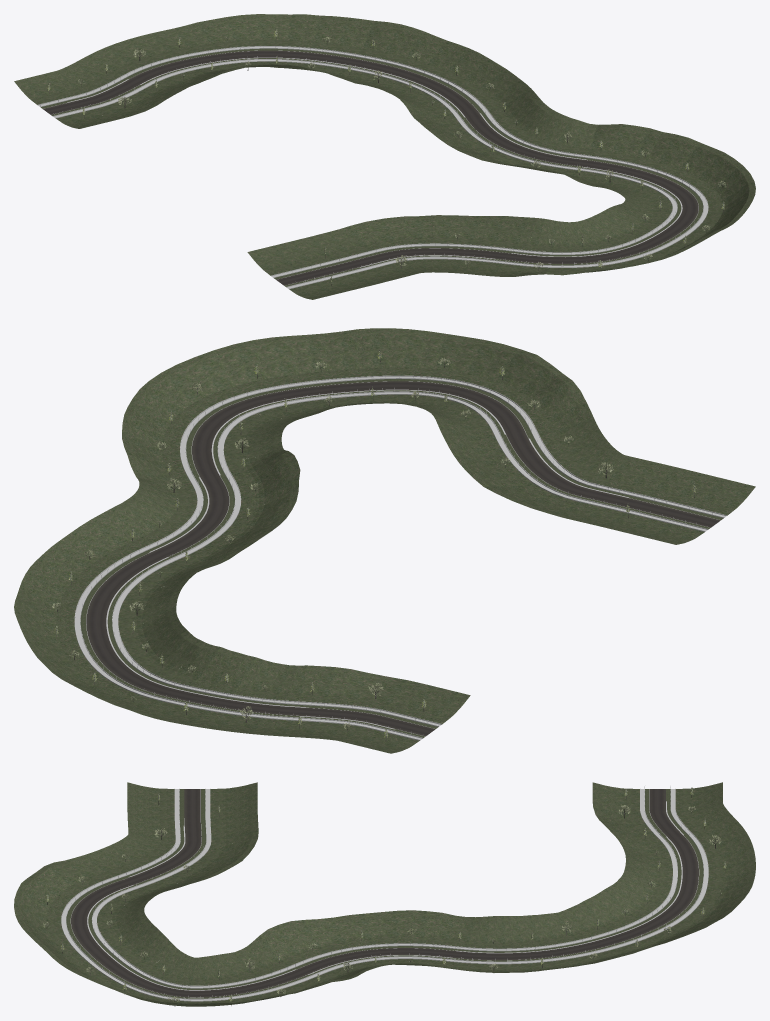
3 views of the same model, one above another, from view 1: azimuth 30°, elevation 25°; view 2: azimuth 150°, elevation 25°; view 3: azimuth 270°, elevation 25° (orthographic). The views are drawn at different scales.
Parts seen in each view (by area): view 1: Grass, Road, Track, Trees, Curbs; view 2: Grass, Road, Track, Trees, Curbs; view 3: Grass, Road, Track, Trees, Curbs.
Boxes of the visible parts, left/top/right/bottom form: Grass: left=14, top=14, right=755, bottom=299; Road: left=43, top=50, right=698, bottom=285; Track: left=38, top=45, right=708, bottom=289; Trees: left=47, top=29, right=726, bottom=285; Curbs: left=70, top=57, right=682, bottom=266; Grass: left=14, top=328, right=755, bottom=753; Road: left=86, top=381, right=720, bottom=736; Track: left=74, top=375, right=726, bottom=740; Trees: left=52, top=349, right=696, bottom=741; Curbs: left=106, top=389, right=624, bottom=728; Grass: left=14, top=782, right=755, bottom=1006; Road: left=71, top=789, right=698, bottom=997; Track: left=61, top=786, right=708, bottom=1001; Trees: left=43, top=787, right=726, bottom=1006; Curbs: left=87, top=802, right=682, bottom=990.
Size of what is drawn, in the model's own units: 56799 by 3366 by 79747.
